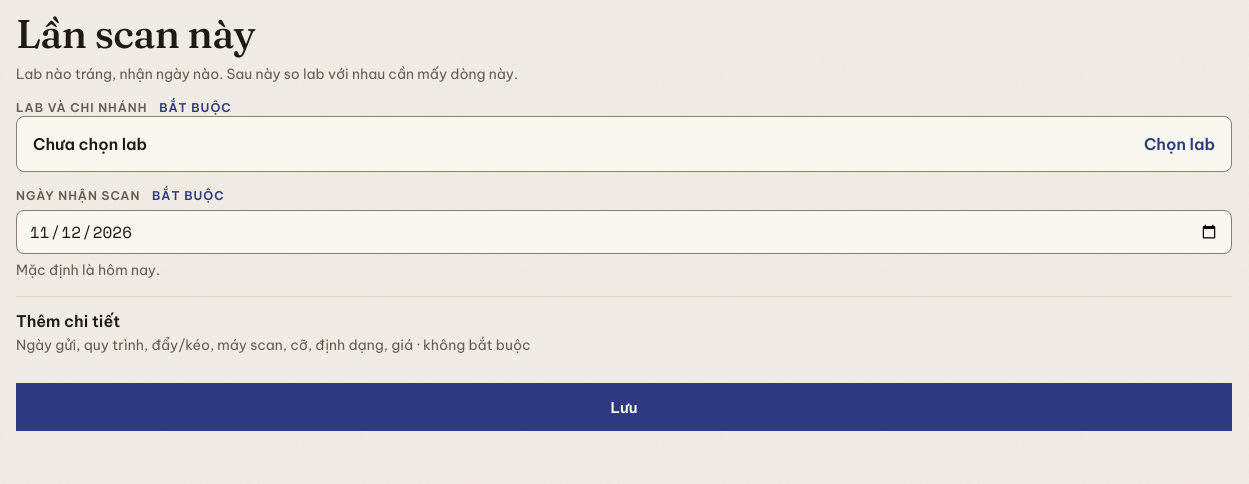
Scenario: ScanSetForm (LAB-3, ScanSetForm board) › shows a save error in pin, in a human voice
The width and height of the screenshot is (1249, 484).
Click the button "Lưu" at (624, 407), box [16,383,1232,431]
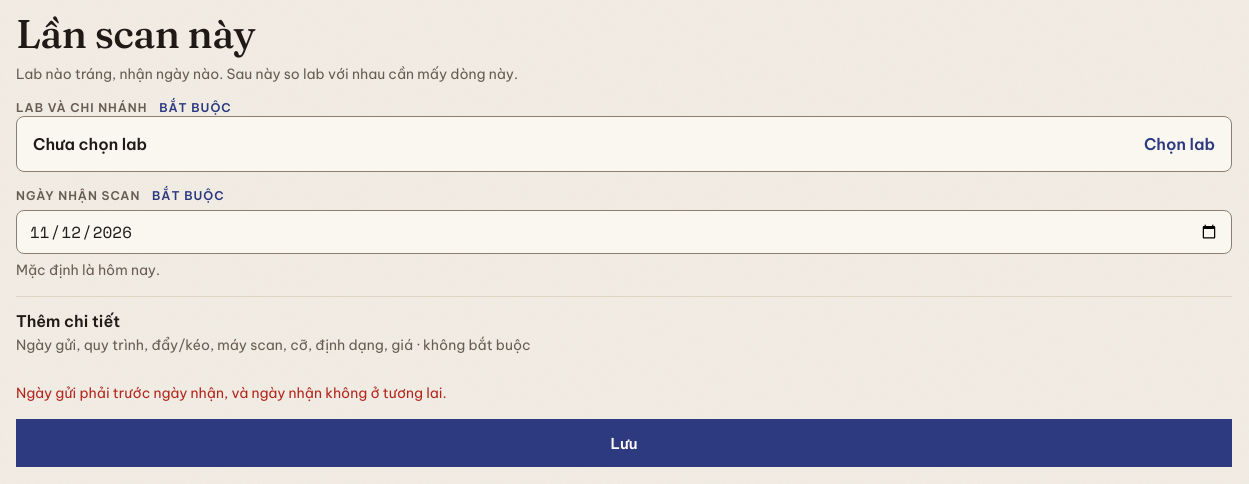
Check: the message reads "Ngày gửi phải trước ngày nhận, và ngày nhận không ở tương lai.", box [16,384,447,402]
